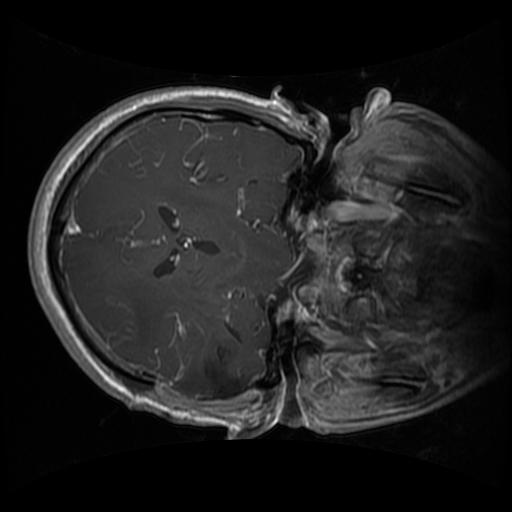glioma: (186, 301, 272, 402)
